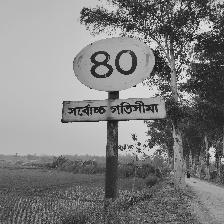Speed-limit: (62, 35, 165, 122)
